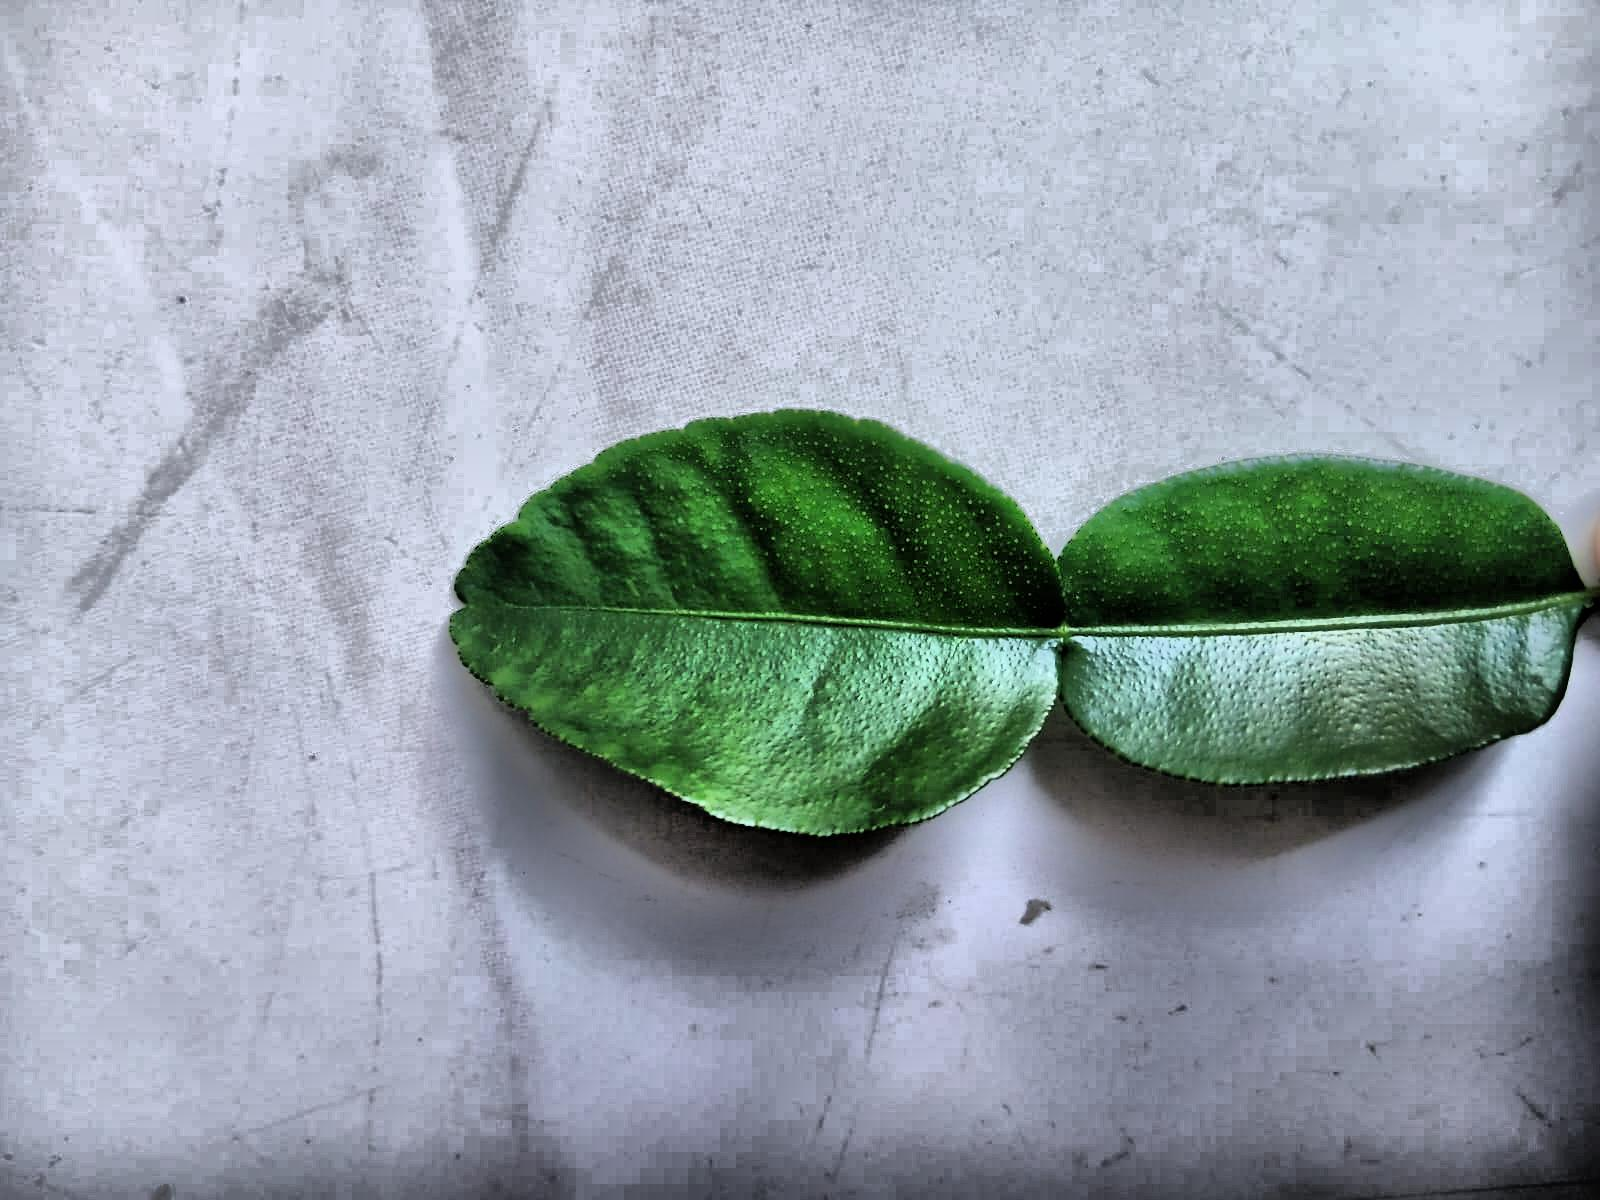daun jeruk: (449, 410, 1599, 834)
